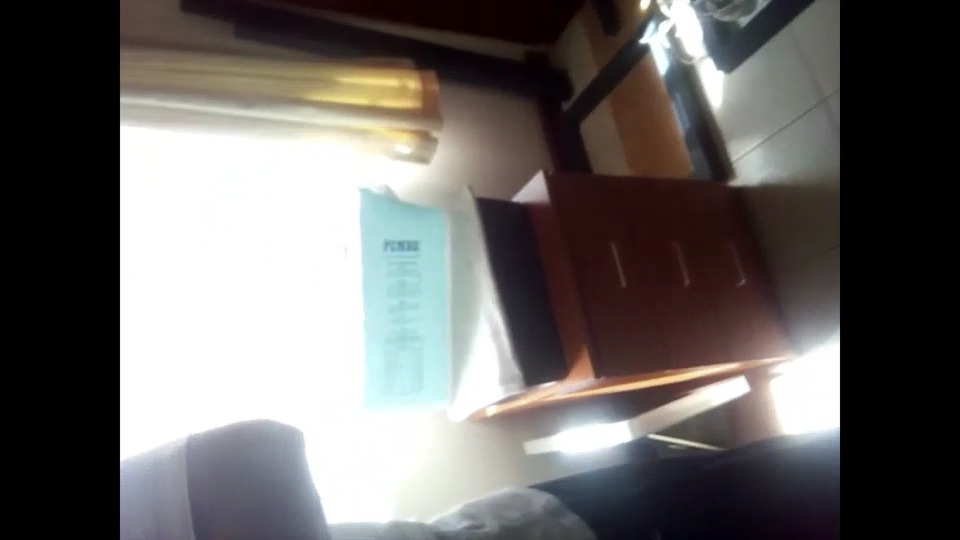wheat_flour_blue_label: (360, 192, 453, 412)
